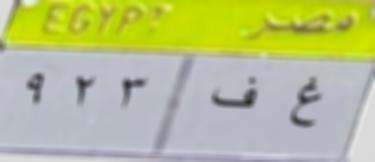2: (68, 67, 100, 109)
3: (118, 70, 150, 114)
9: (22, 68, 49, 109)
faa: (208, 72, 262, 118)
ghayn: (289, 71, 322, 134)
